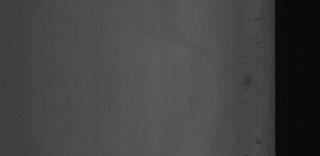oil spot: (238, 75, 256, 89), (253, 130, 267, 148), (249, 14, 263, 22), (253, 38, 261, 44)
